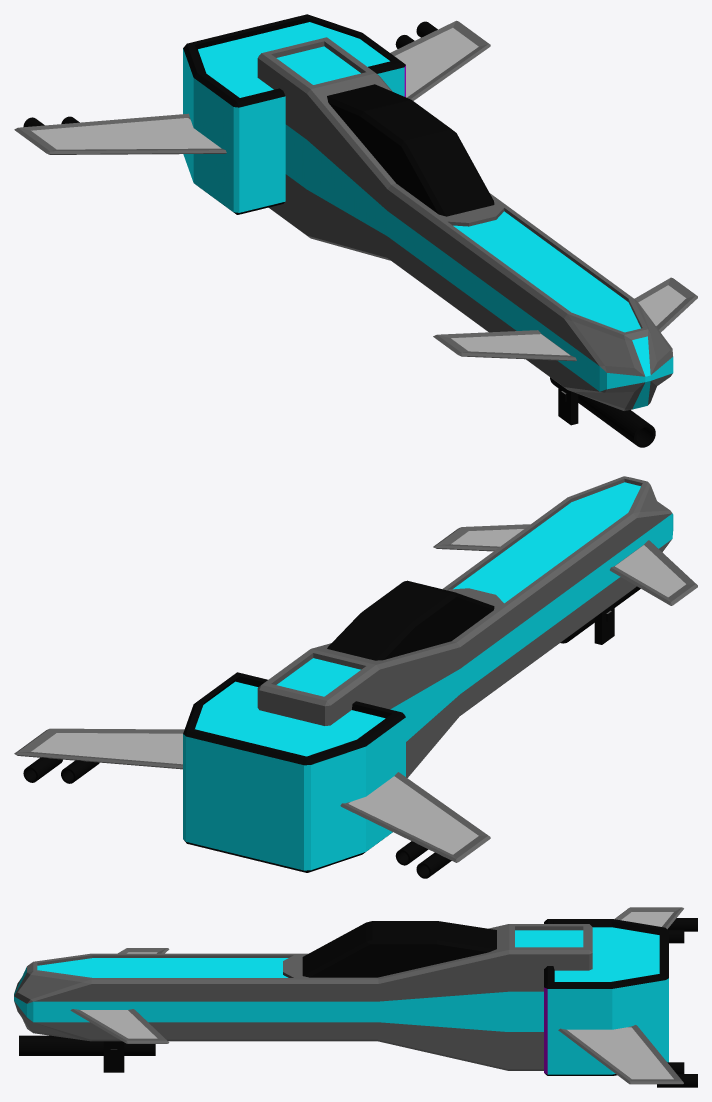
Rendered from LaserShip_Color.fbx.
The picture shows the model from 3 angles, top to bottom: view 1: azimuth 30°, elevation 25°; view 2: azimuth 150°, elevation 25°; view 3: azimuth 270°, elevation 25°; orthographic projection. The views are drawn at different scales.
Visible parts, largest first — view 1: Cube; view 2: Cube; view 3: Cube.
Part boxes in pixels (<box>): Cube: <box>14,14,697,447</box>; Cube: <box>14,476,697,878</box>; Cube: <box>14,907,697,1087</box>.
Size of the model in its own units: 1222 by 431 by 2003.
